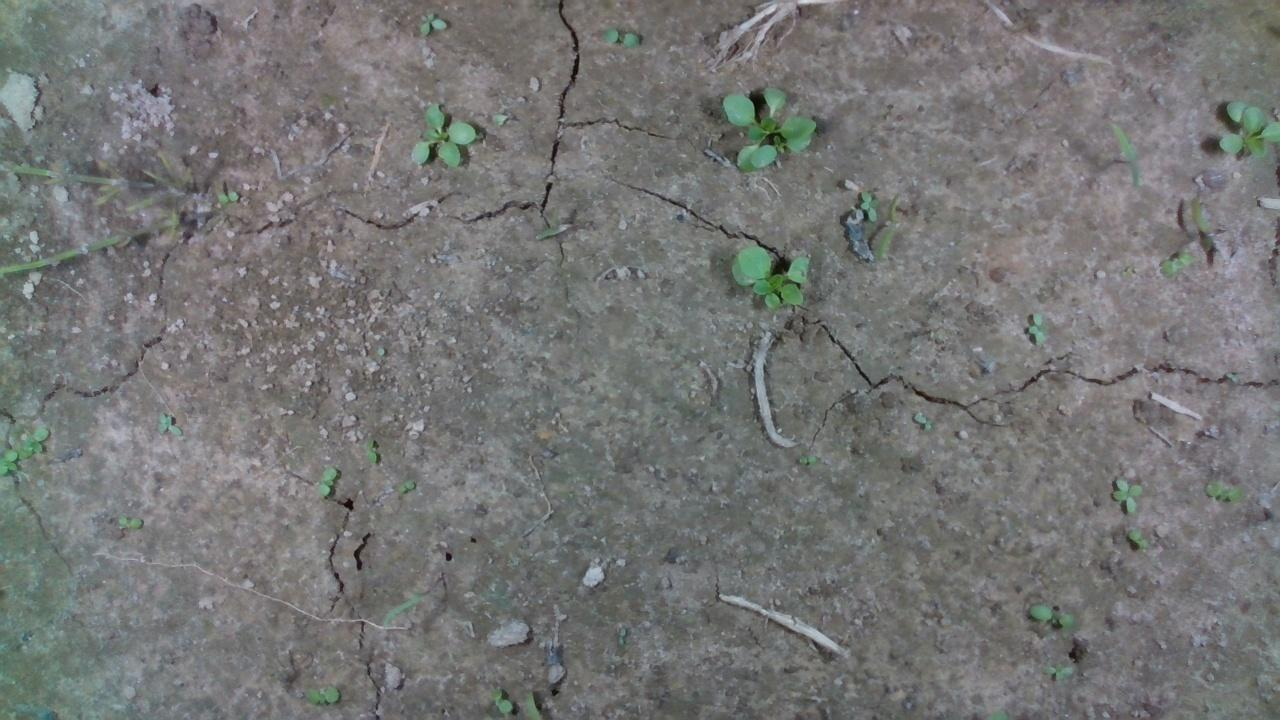weed: (101, 508, 151, 537), (1111, 474, 1146, 515), (150, 403, 181, 443), (600, 24, 644, 52), (1022, 297, 1046, 346), (312, 461, 338, 503), (414, 9, 449, 38), (1043, 659, 1082, 685), (855, 183, 879, 221), (358, 436, 381, 472), (396, 478, 420, 503), (216, 188, 252, 204)
